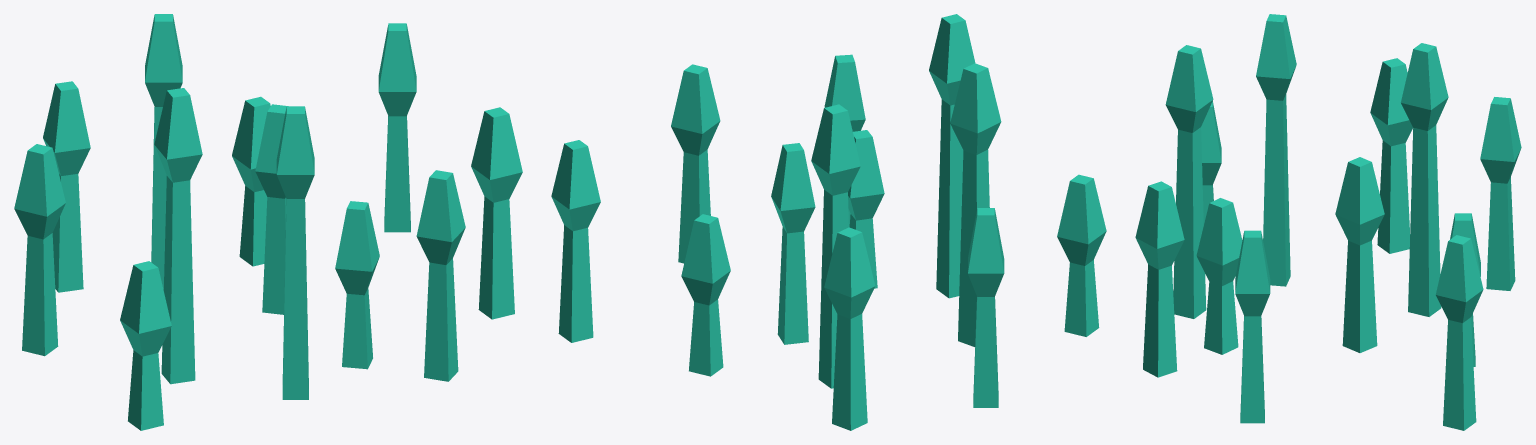
Rendered from crops_wheatStageA.fbx.
3 renders of one model, left to right at view 1: azimuth 30°, elevation 25°; view 2: azimuth 150°, elevation 25°; view 3: azimuth 270°, elevation 25°, orthographic. The views are drawn at different scales.
Visible parts, largest first — view 1: crops_wheatStageA; view 2: crops_wheatStageA; view 3: crops_wheatStageA.
Boxes of the visible parts, box(x1,y1,x2,y2) form: crops_wheatStageA: box(14, 14, 522, 430); crops_wheatStageA: box(551, 14, 1106, 430); crops_wheatStageA: box(1135, 14, 1521, 430).
Bounding box in the file's own units: 5.4 × 3.35 × 4.47.
